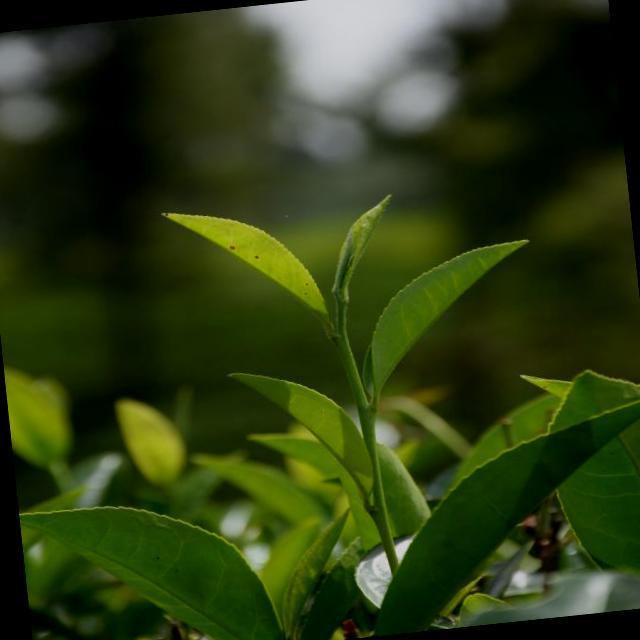Stem: (335, 335, 348, 352)
